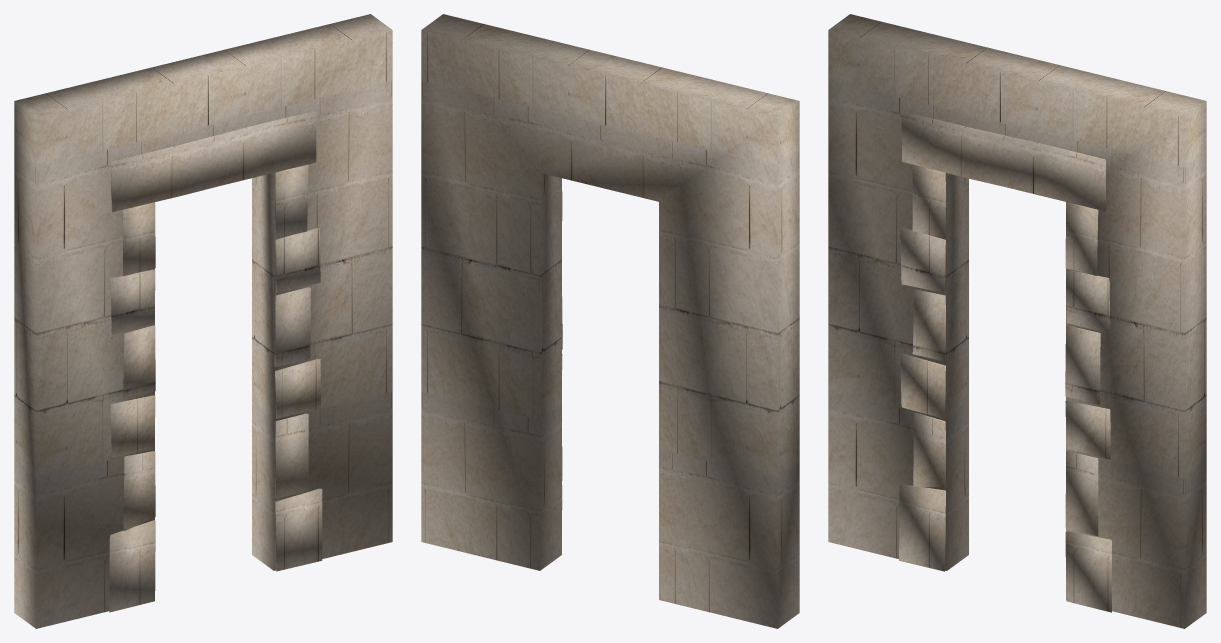
The model's file is limestone doorframe.glb.
The picture shows the model from 3 angles, left to right: view 1: azimuth 30°, elevation 25°; view 2: azimuth 150°, elevation 25°; view 3: azimuth 330°, elevation 25°; orthographic projection.
Visible parts, largest first — view 1: Rectangle Door Wall.002; view 2: Rectangle Door Wall.002; view 3: Rectangle Door Wall.002.
Part boxes in pixels (<box>): Rectangle Door Wall.002: <box>14,14,392,628</box>; Rectangle Door Wall.002: <box>421,14,799,628</box>; Rectangle Door Wall.002: <box>828,14,1206,628</box>.
Size of the model in its own units: 2 by 2.75 by 0.225.
2 materials, 2 textured.
